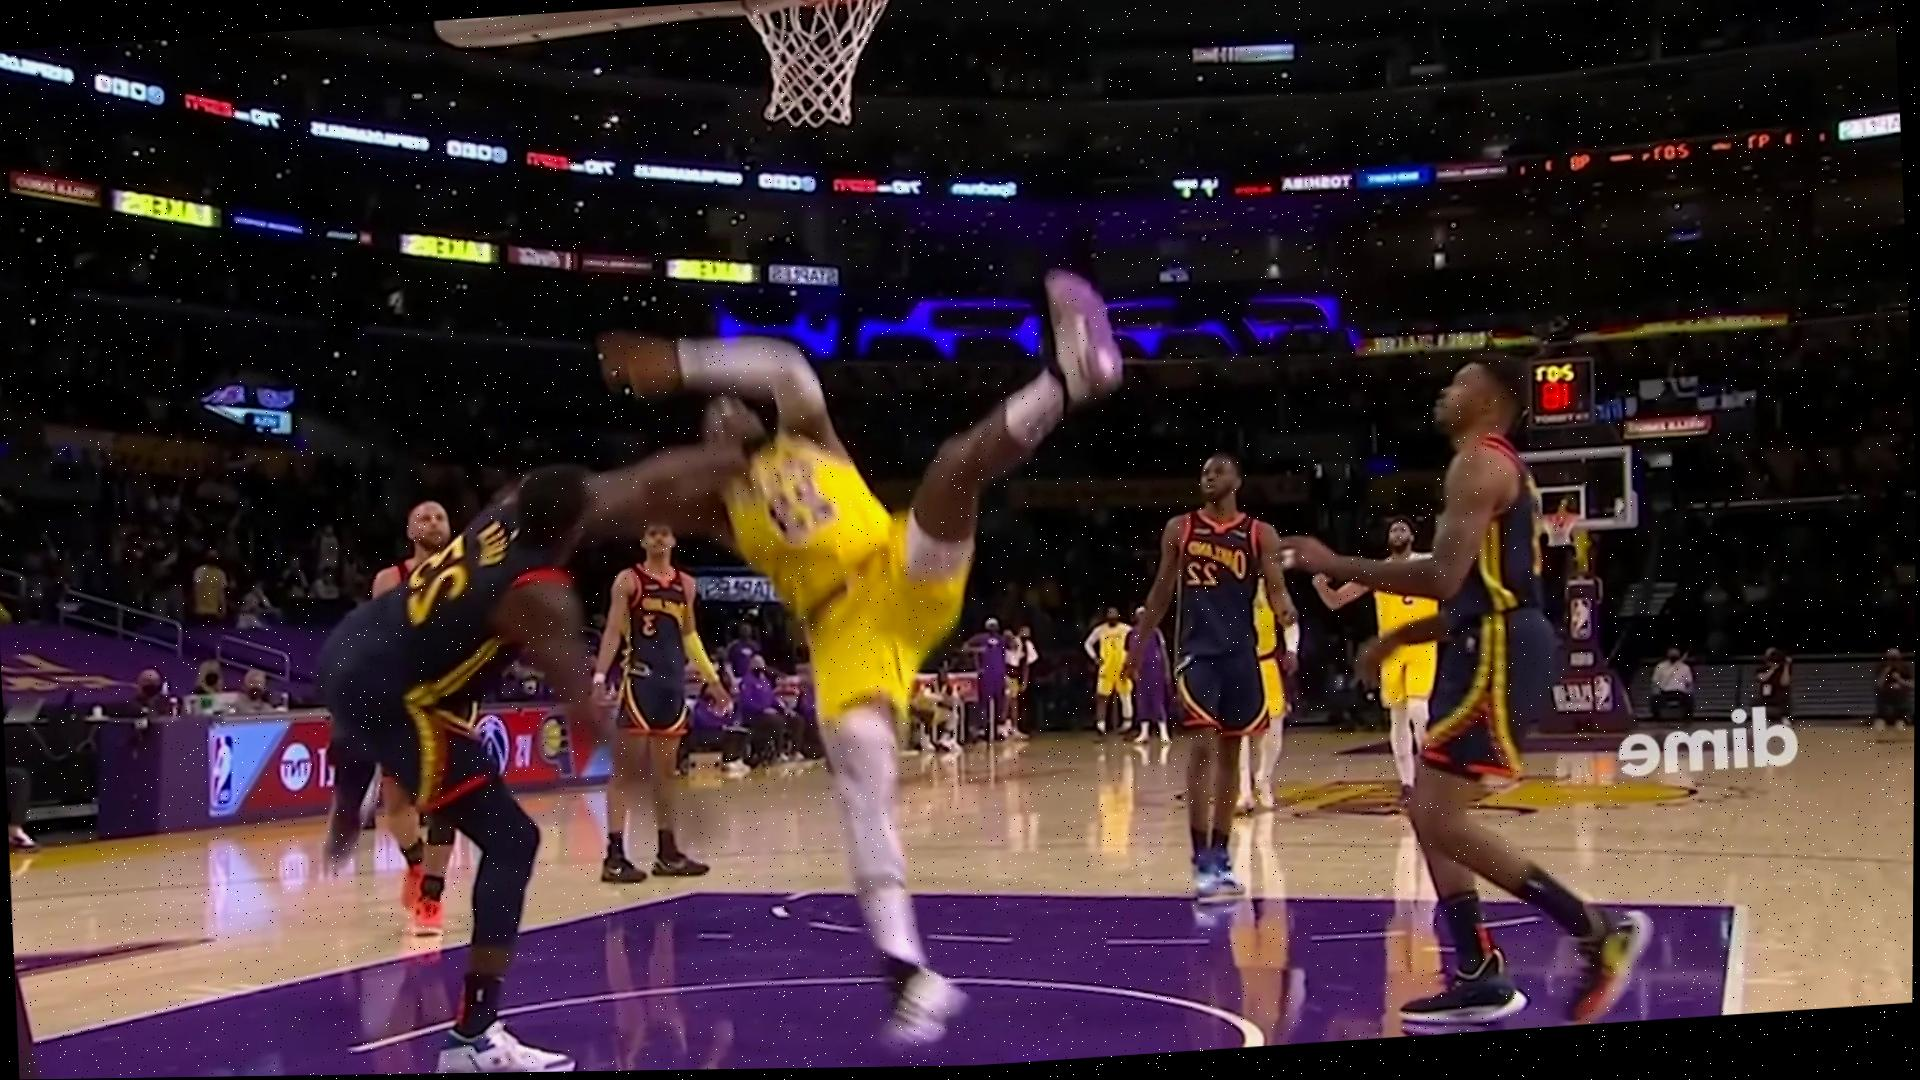foul: (332, 269, 1036, 1075)
